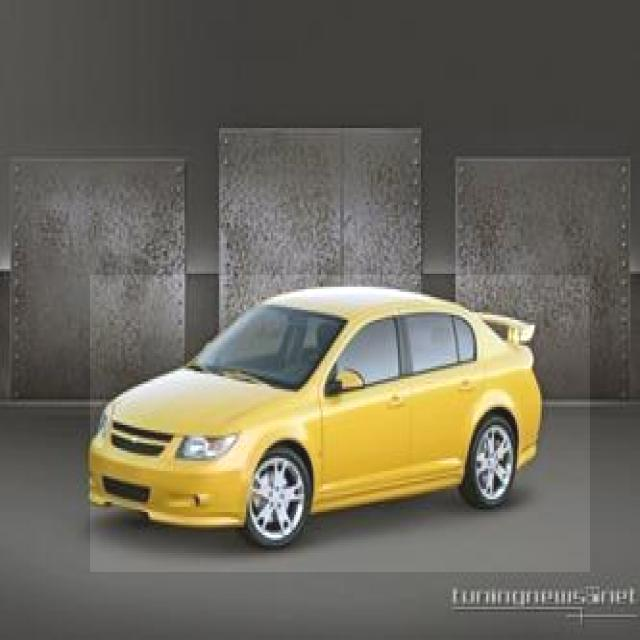Car: (90, 275, 590, 572)
